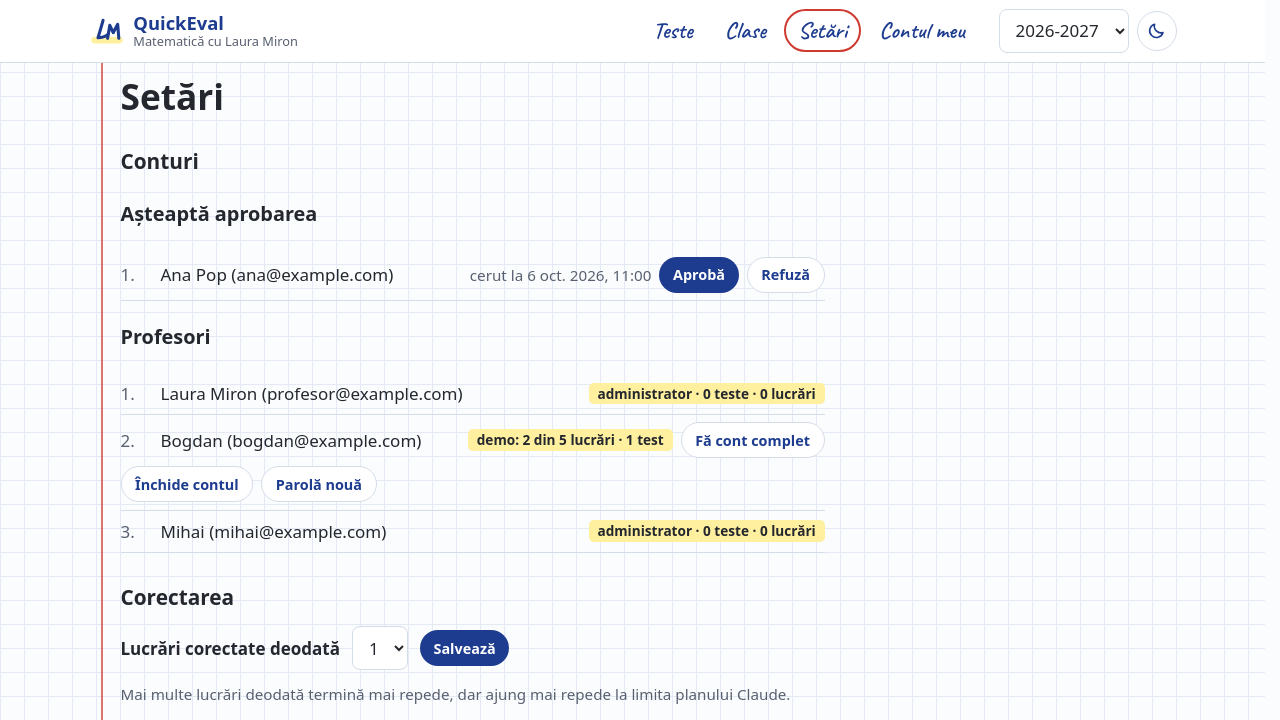
Test case: the accounts on Setări › makes a new password for a teacher and shows it once
The width and height of the screenshot is (1280, 720).
Click the button with aria-label "Parolă nouă: Bogdan". click: (319, 484)
box: [261,466,377,502]
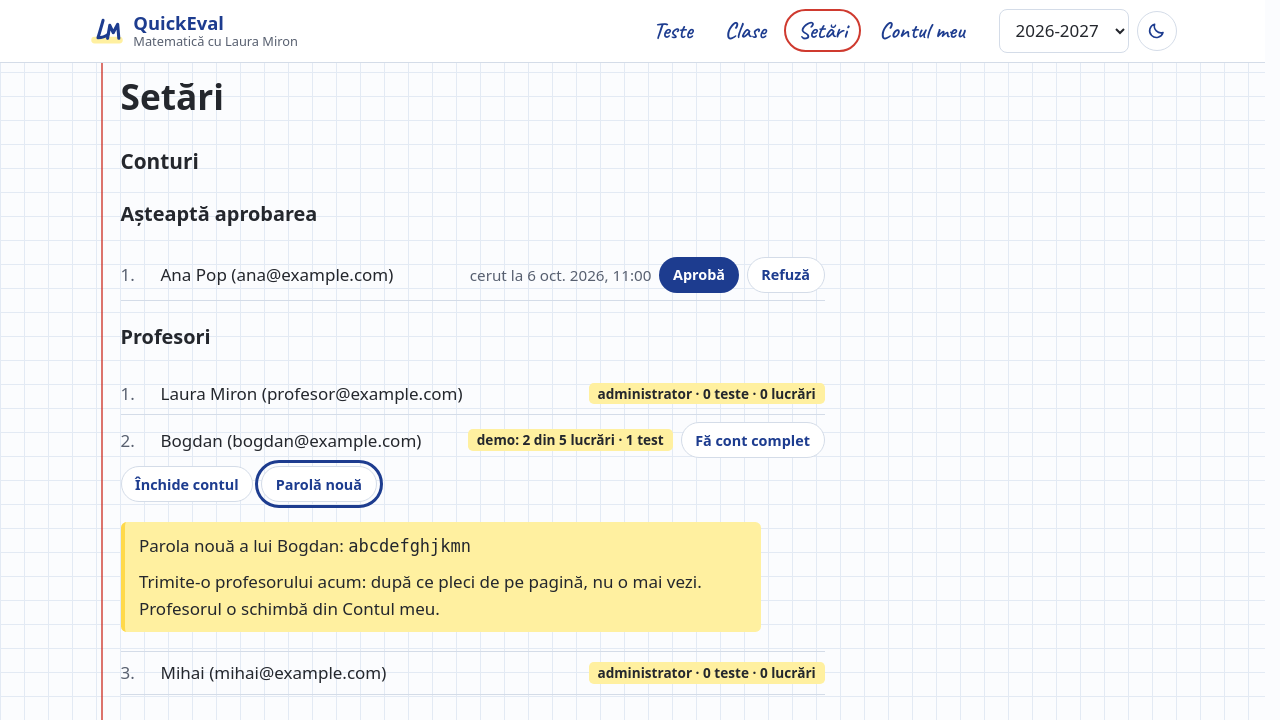
Expected: the text "abcdefghjkmn" is shown, [348,536,471,556]
